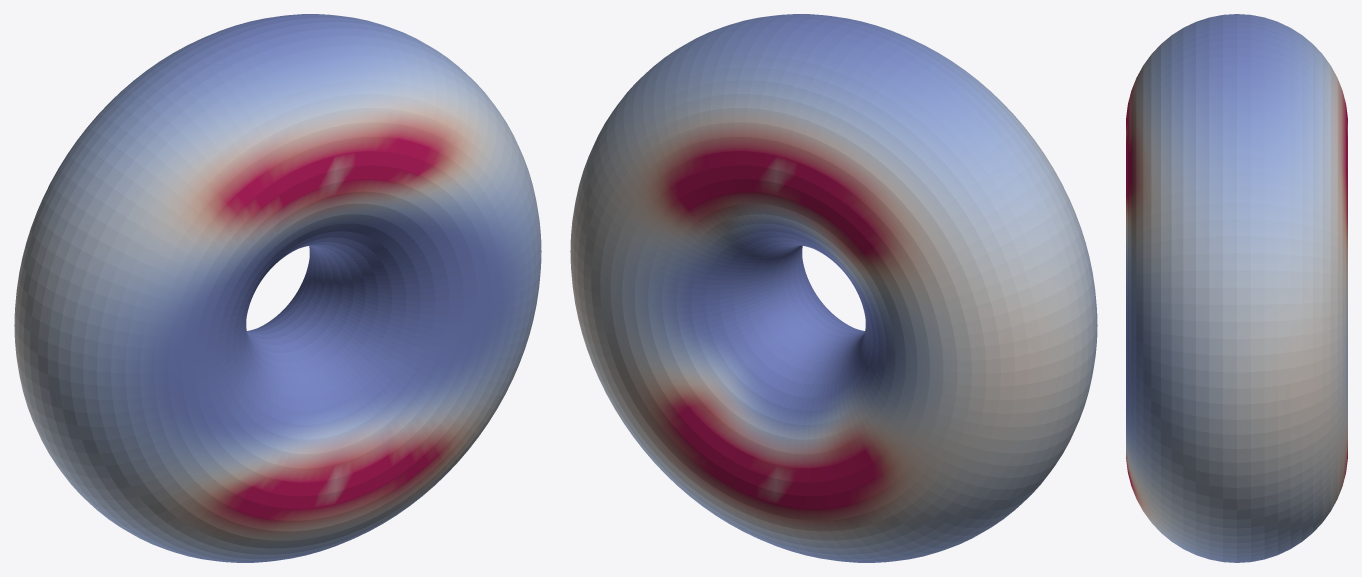
3 views of the same model, side by side, from view 1: azimuth 30°, elevation 25°; view 2: azimuth 150°, elevation 25°; view 3: azimuth 270°, elevation 25° (orthographic). The views are drawn at different scales.
Visible parts, largest first — view 1: world; view 2: world; view 3: world.
Part boxes in pixels (bbox=[...]): world: bbox=[14, 14, 541, 562]; world: bbox=[570, 14, 1097, 562]; world: bbox=[1126, 14, 1347, 562].
Bounding box in the file's own units: 16.8 × 16.8 × 6.79.
